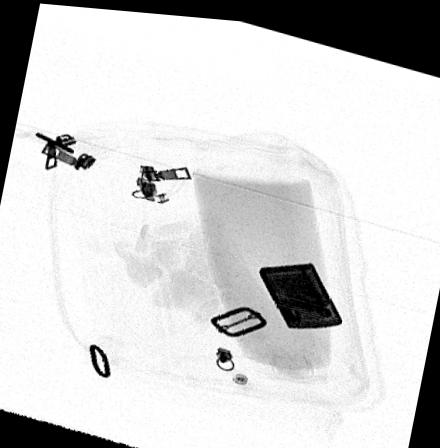Lighter: (257, 256, 344, 323)
